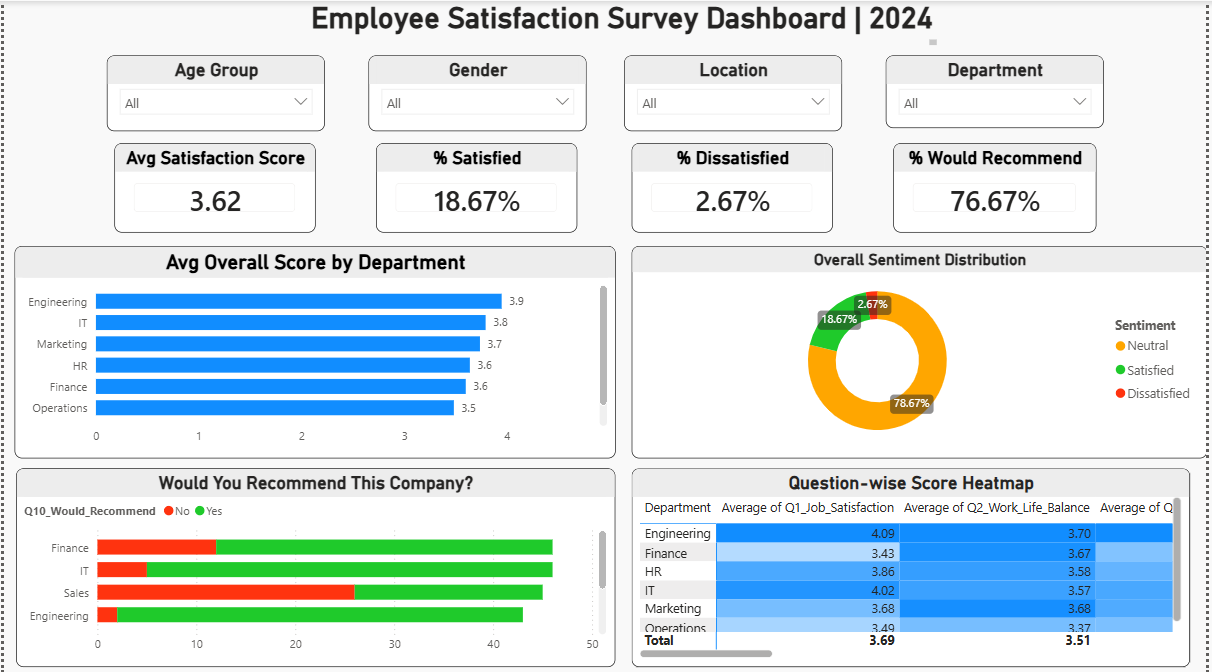

The dashboard page shown, as its layout file describes it:
{"tool":"powerbi","page":{"name":"Page 1","canvas":[1280,720],"ordinal":0},"visuals":[{"type":"cardVisual","title":"Avg Satisfaction Score","fields":{"Data":["SurveyData.Avg Overall Score"]},"box":[117.7,151.6,214.5,95.2],"z":0},{"type":"cardVisual","title":"% Dissatisfied","fields":{"Data":["SurveyData.% Dissatisfied"]},"box":[667.7,151.6,214.5,95.2],"z":1000},{"type":"cardVisual","title":"% Satisfied","fields":{"Data":["SurveyData.% Satisfied"]},"box":[396.8,151.6,214.5,95.2],"z":2000},{"type":"cardVisual","title":"% Would Recommend","fields":{"Data":["SurveyData.% Would Recommend"]},"box":[946.8,151.6,216.1,95.2],"z":3000},{"type":"clusteredBarChart","fields":{"Category":["SurveyData.Department"],"Y":["SurveyData.Avg Overall Score"]},"box":[11.3,261.3,640.3,225.8],"z":4000},{"type":"donutChart","title":"Overall Sentiment Distribution","fields":{"Category":["SurveyData.Sentiment"],"Y":["CountNonNull(SurveyData.Employee_ID)"]},"box":[667.7,261.3,612.9,225.8],"z":5000},{"type":"barChart","title":"Would You Recommend This Company?","fields":{"Category":["SurveyData.Department"],"Y":["CountNonNull(SurveyData.Employee_ID)"],"Series":["SurveyData.Q10_Would_Recommend"]},"box":[13.2,498.1,637.7,211.3],"z":6000},{"type":"pivotTable","title":"Question-wise Score Heatmap","fields":{"Rows":["SurveyData.Department"],"Values":["Avg(SurveyData.Q1_Job_Satisfaction)","Avg(SurveyData.Q2_Work_Life_Balance)","Avg(SurveyData.Q3_Manager_Support)","Avg(SurveyData.Q4_Career_Growth)","Avg(SurveyData.Q5_Team_Collaboration)","Avg(SurveyData.Q6_Compensation_Fairness)","Avg(SurveyData.Q7_Company_Culture)","Avg(SurveyData.Q8_Remote_Work_Preference)","Avg(SurveyData.Q9_Training_Opportunities)"]},"box":[667.9,498.1,594.3,211.3],"z":7000},{"type":"slicer","title":"Department","fields":{"Values":["SurveyData.Department"]},"box":[938.7,58.1,232.3,77.4],"z":8000},{"type":"slicer","title":"Location","fields":{"Values":["SurveyData.Location"]},"box":[659.7,58.1,232.3,80.6],"z":9000},{"type":"slicer","title":"Gender","fields":{"Values":["SurveyData.Gender"]},"box":[388.7,58.1,232.3,80.6],"z":10000},{"type":"slicer","title":"Age Group","fields":{"Values":["SurveyData.Age_Group"]},"box":[109.7,58.1,232.3,80.6],"z":11000},{"type":"textbox","title":"Employee Satisfaction Survey Dashboard | 2024","box":[322.6,0,675.8,51.6],"z":11001}]}

Visuals, with their boxes in screenshot pixels (x1, y1, x2, y2), scaled from the page's 1280x720 canvas onto the 1212x672 screenshot:
"Avg Satisfaction Score" cardVisual: Rect(111, 141, 315, 230)
"% Dissatisfied" cardVisual: Rect(632, 141, 835, 230)
"% Satisfied" cardVisual: Rect(376, 141, 579, 230)
"% Would Recommend" cardVisual: Rect(897, 141, 1101, 230)
clusteredBarChart - SurveyData.Department x SurveyData.Avg Overall Score: Rect(11, 244, 617, 455)
"Overall Sentiment Distribution" donutChart: Rect(632, 244, 1211, 455)
"Would You Recommend This Company?" barChart: Rect(12, 465, 616, 662)
"Question-wise Score Heatmap" pivotTable: Rect(632, 465, 1195, 662)
"Department" slicer: Rect(889, 54, 1109, 126)
"Location" slicer: Rect(625, 54, 845, 129)
"Gender" slicer: Rect(368, 54, 588, 129)
"Age Group" slicer: Rect(104, 54, 324, 129)
"Employee Satisfaction Survey Dashboard | 2024" textbox: Rect(305, 0, 945, 48)
